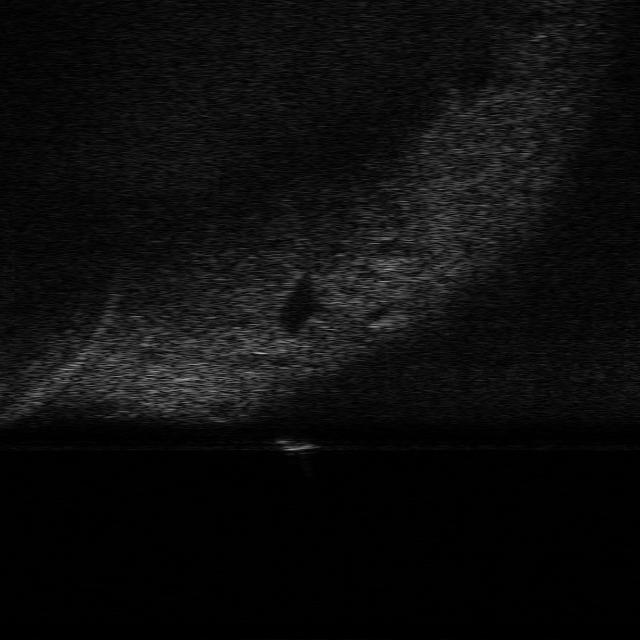cube: (269, 433, 321, 455)
